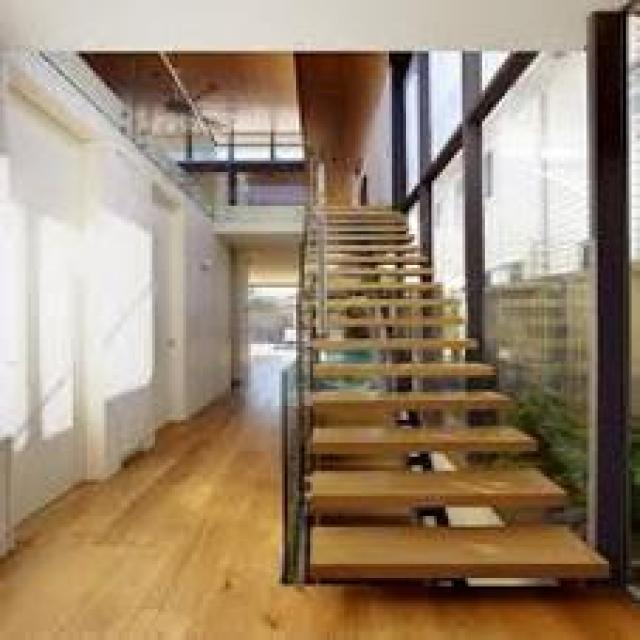upstair: (300, 353, 621, 593)
